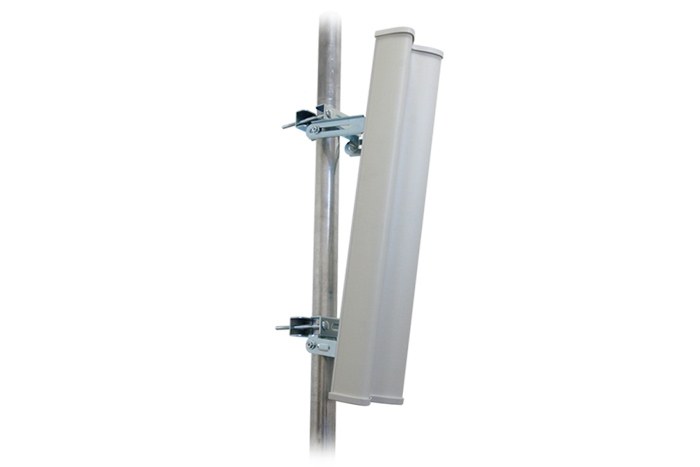sa: (296, 22, 441, 417)
